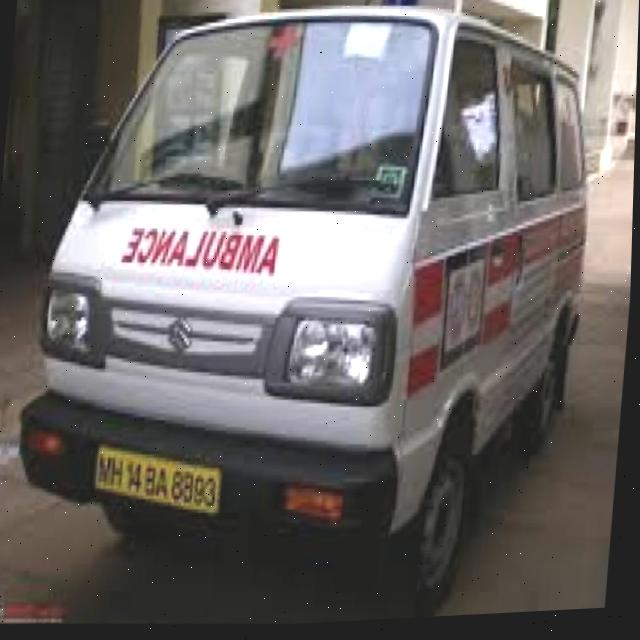emergency: (17, 0, 631, 562)
